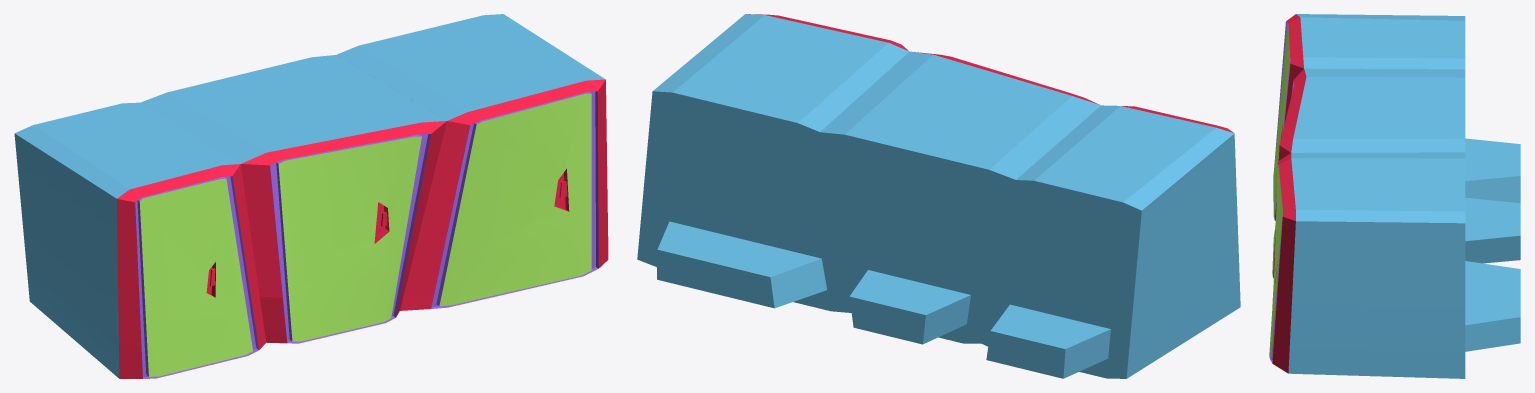
Rendered from Cabinets_T3.fbx.
The picture shows the model from 3 angles, left to right: view 1: azimuth 30°, elevation 25°; view 2: azimuth 150°, elevation 25°; view 3: azimuth 270°, elevation 25°; orthographic projection. The views are drawn at different scales.
Visible parts, largest first — view 1: T3_Cabinets; view 2: T3_Cabinets; view 3: T3_Cabinets.
Boxes of the visible parts, x1,y1,x2,y2 form: T3_Cabinets: [14, 14, 608, 378]; T3_Cabinets: [637, 14, 1240, 378]; T3_Cabinets: [1269, 14, 1520, 378].
Size of the model in its own units: 229 by 80.2 by 114.
